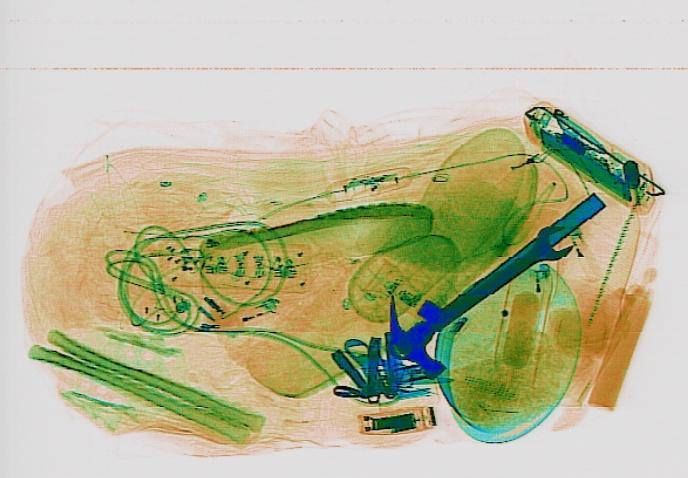wrench: (386, 224, 575, 360)
